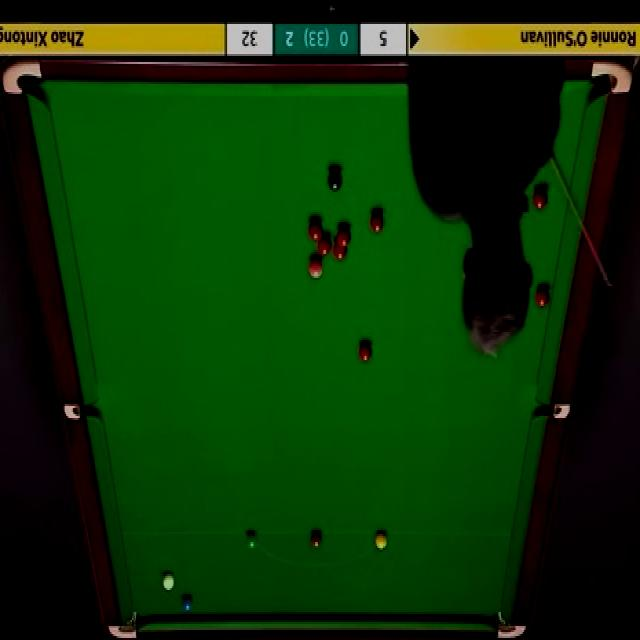black-ball: (326, 168, 344, 193)
blue-ball: (178, 596, 192, 613)
brown-ball: (309, 530, 322, 550)
green-ball: (245, 529, 259, 550)
pink-ball: (308, 256, 324, 281)
red-ball: (368, 209, 386, 235), (534, 286, 550, 310), (332, 239, 348, 262), (532, 190, 549, 211), (314, 238, 330, 260), (308, 220, 323, 243), (358, 340, 373, 362), (337, 227, 351, 247)
white-ball: (162, 570, 173, 592)
yellow-ball: (374, 530, 389, 551)
